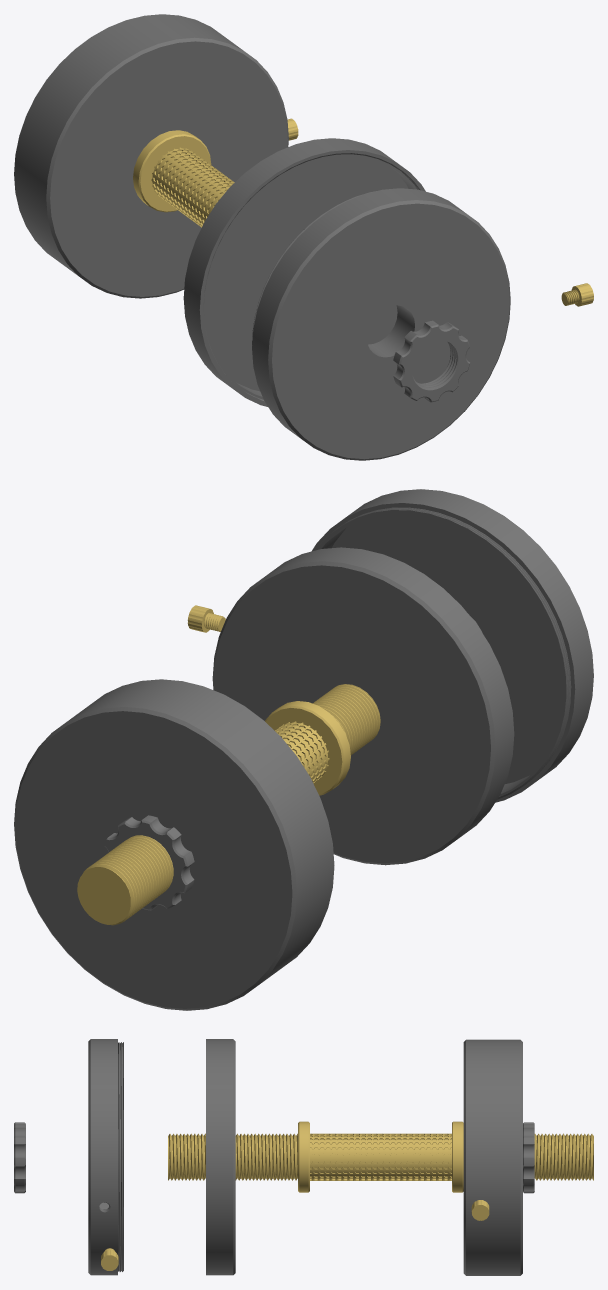
The model's file is Dumbbell all.glb.
3 renders of one model, top to bottom at view 1: azimuth 30°, elevation 25°; view 2: azimuth 150°, elevation 25°; view 3: azimuth 270°, elevation 25°, orthographic. The views are drawn at different scales.
Visible parts, largest first — view 1: root; view 2: root; view 3: root.
Boxes of the visible parts, bbox=[...] form: root: bbox=[14, 14, 593, 460]; root: bbox=[14, 489, 593, 1010]; root: bbox=[14, 1039, 593, 1275].
Bounding box in the file's own units: 1.12 × 0.8159 × 2.
